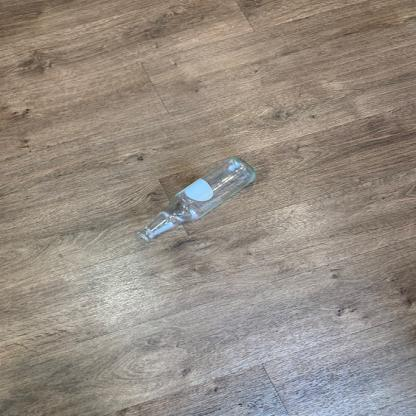trash: (135, 157, 259, 240)
